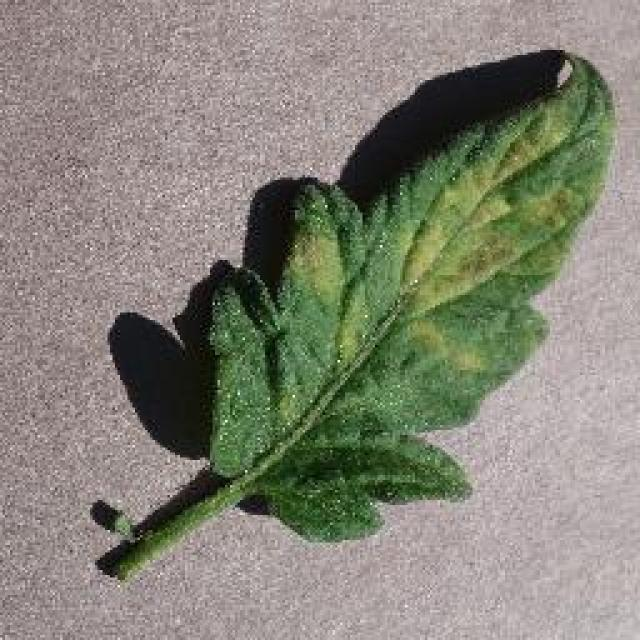Tomato mold leaf: (185, 54, 617, 544)
